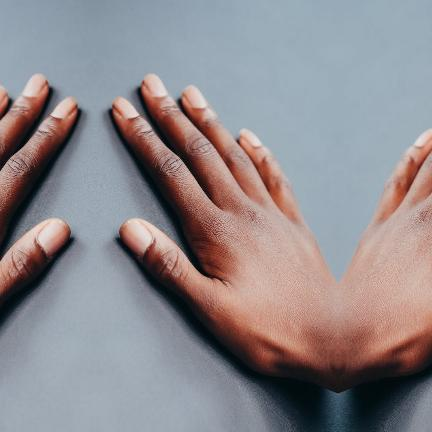Nail: (118, 219, 152, 259), (36, 219, 70, 259), (141, 73, 168, 97), (20, 73, 47, 97), (182, 85, 208, 109), (111, 97, 138, 119), (50, 97, 77, 119), (238, 129, 262, 147), (413, 129, 432, 147), (0, 85, 6, 102)
